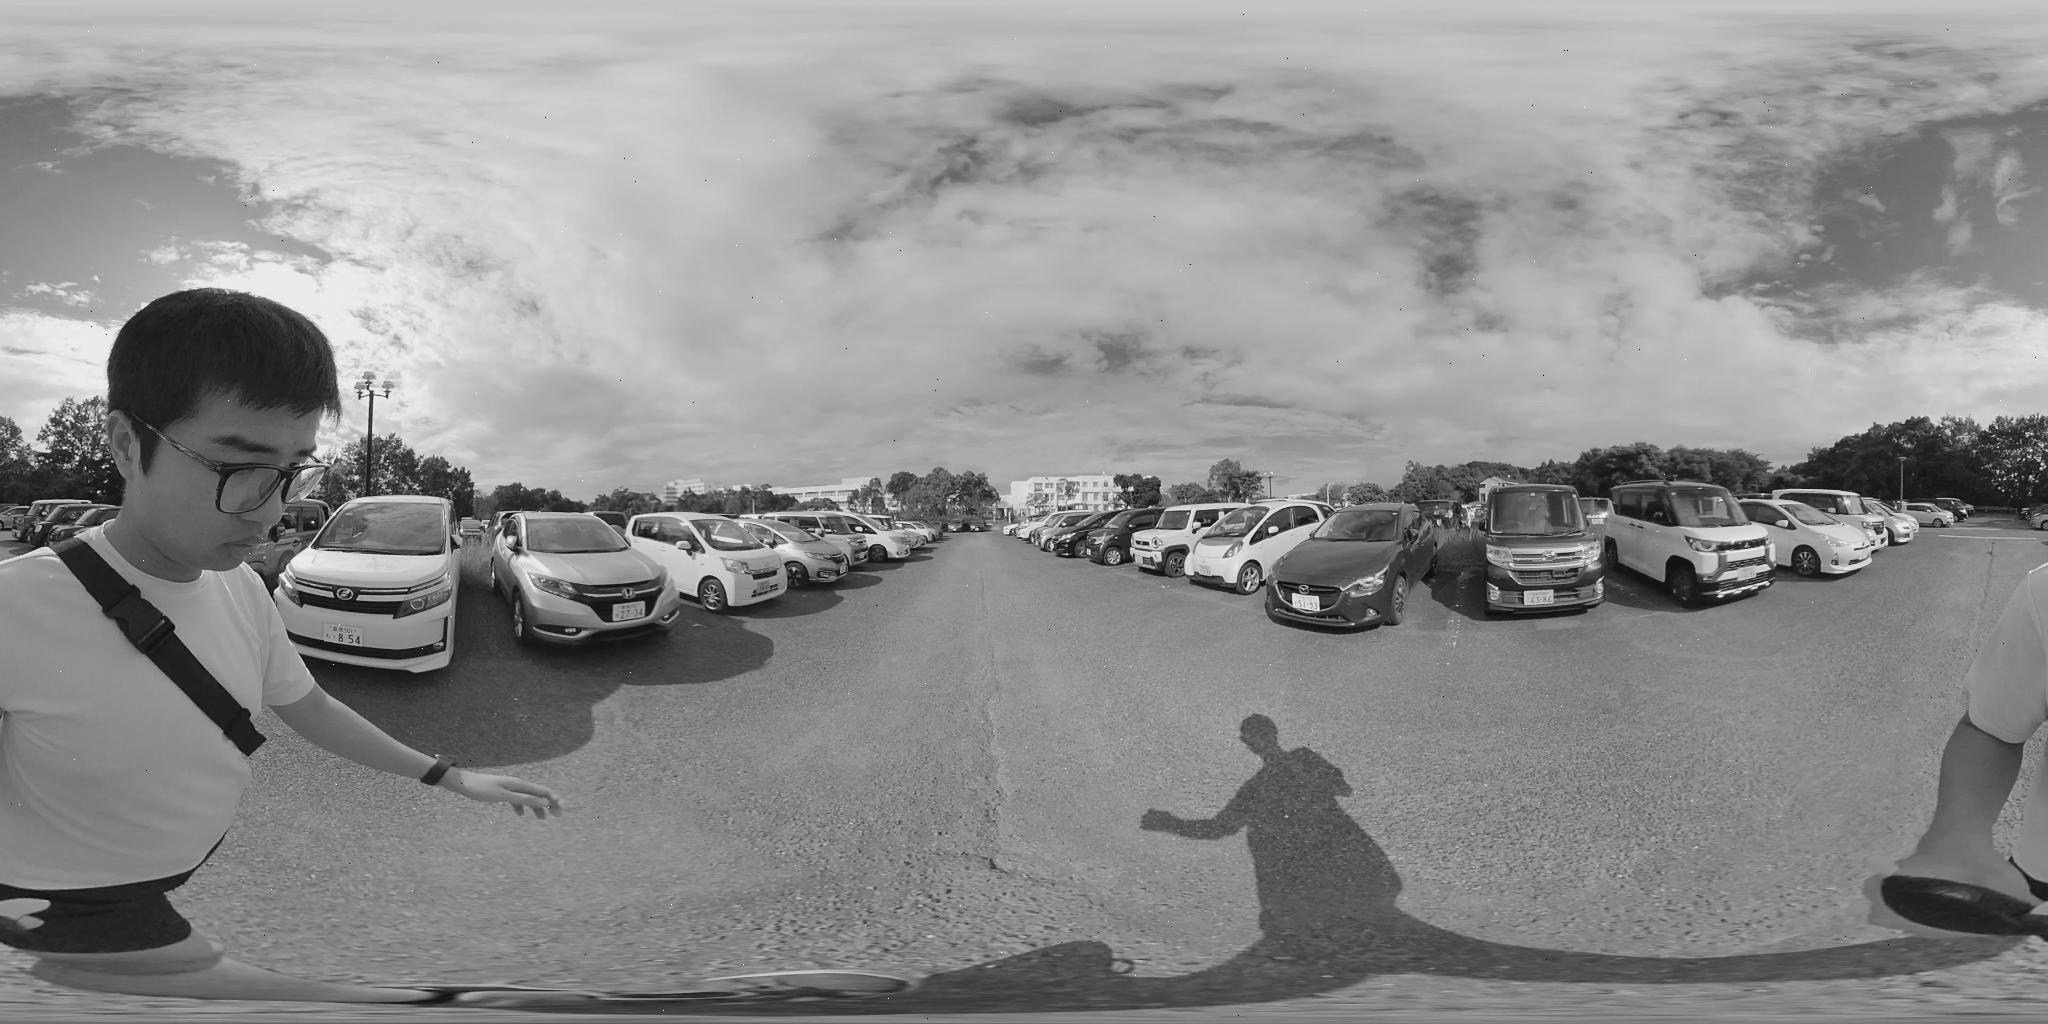car: (286, 496, 468, 670), (492, 513, 680, 647), (1260, 505, 1442, 635), (1600, 479, 1784, 606), (626, 515, 818, 610), (1485, 487, 1600, 611), (1181, 507, 1337, 589), (1738, 494, 1890, 579), (741, 515, 876, 580), (772, 512, 923, 568), (1131, 507, 1251, 575), (844, 515, 942, 560), (1042, 512, 1135, 559), (29, 500, 115, 542), (1893, 498, 1966, 524)
